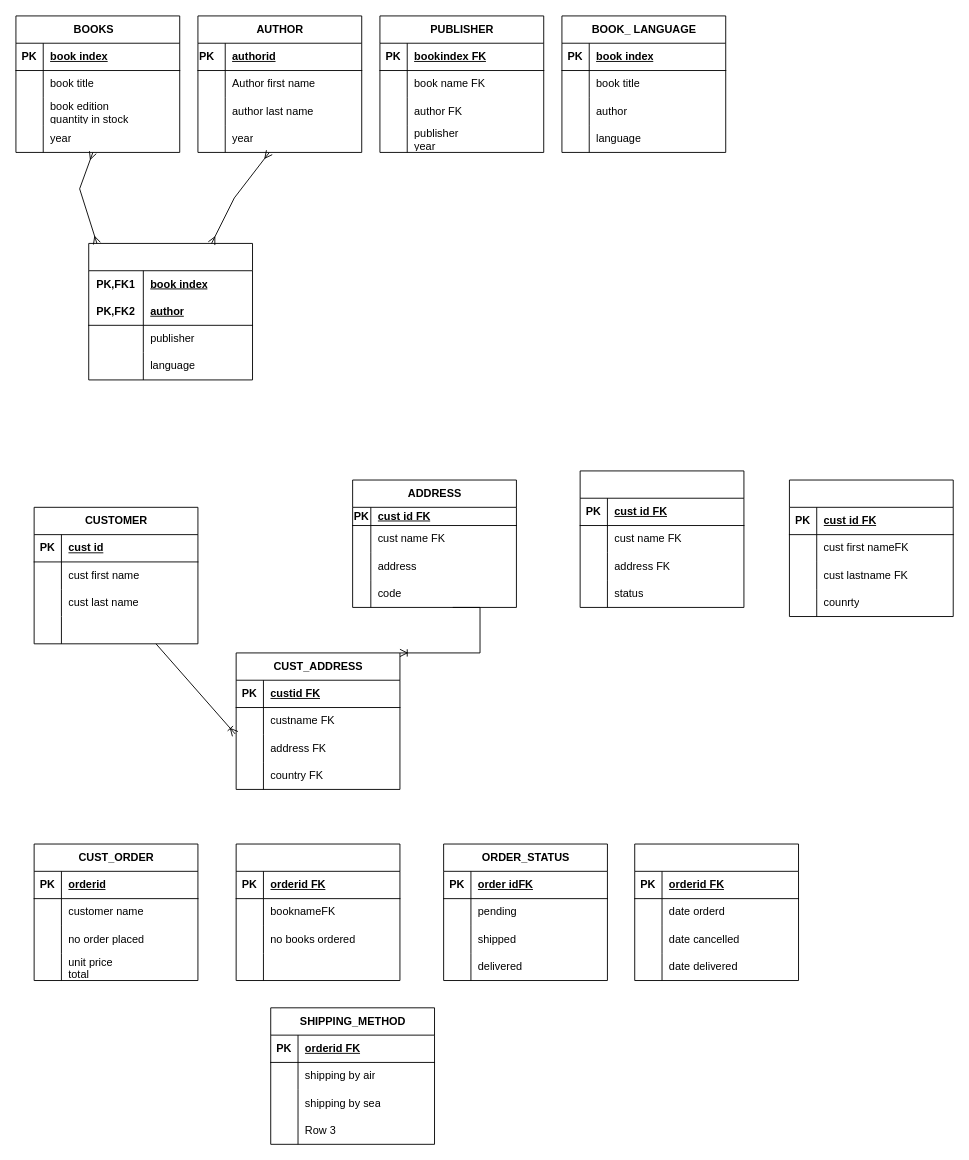
Image size: 969x1160. Some labels were removed from this diagram. The box of each missing label's shape, as (x1, y1, x2, y2) in pixels:
ADDRESS_STATUS: (579, 470, 744, 607)
BOOK_AUTHOR: (88, 243, 253, 380)
COUNTRY: (789, 479, 953, 617)
ORDER_HISTORY: (634, 843, 799, 981)
ORDER_LINE: (235, 843, 400, 981)
